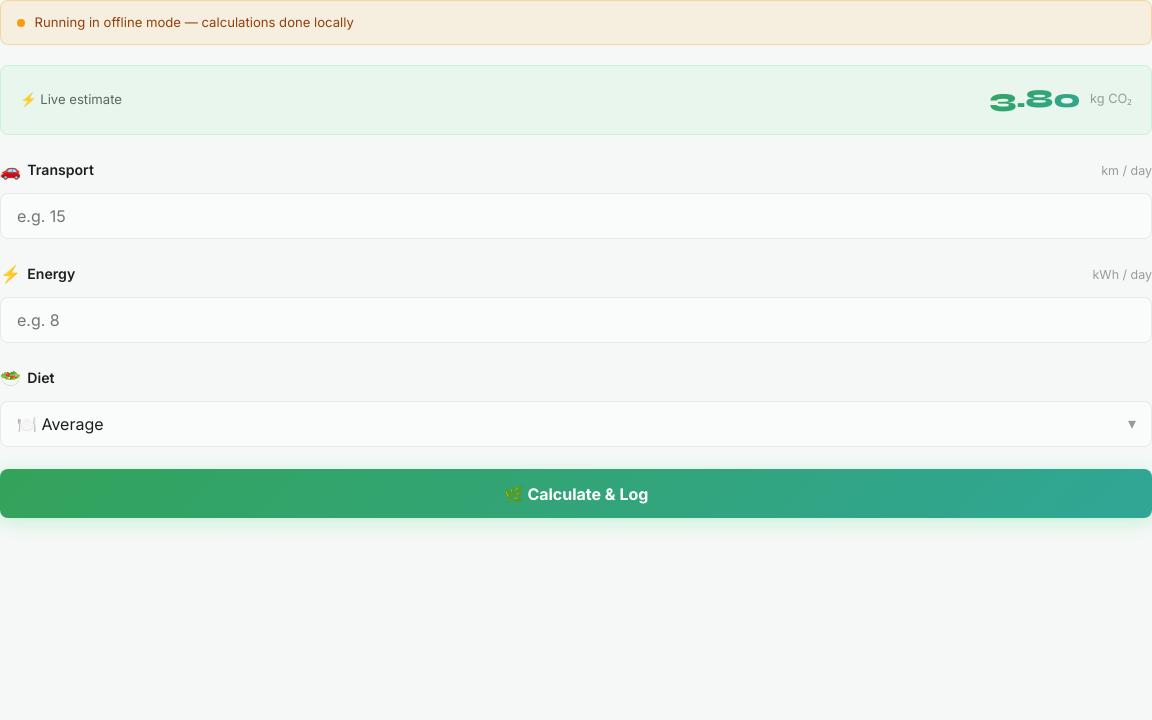
Scenario: FootprintForm › uses local fallback calculation when api is offline
Expected: the text "Running in offline mode — calculations done locally" is shown, [0,0,1151,45]
// Change to zero activity vegetarian (should get A or B grade)
Type "0" into the number field labelled "🚗 Transport km / day" at (576, 216), box [0,193,1151,239]
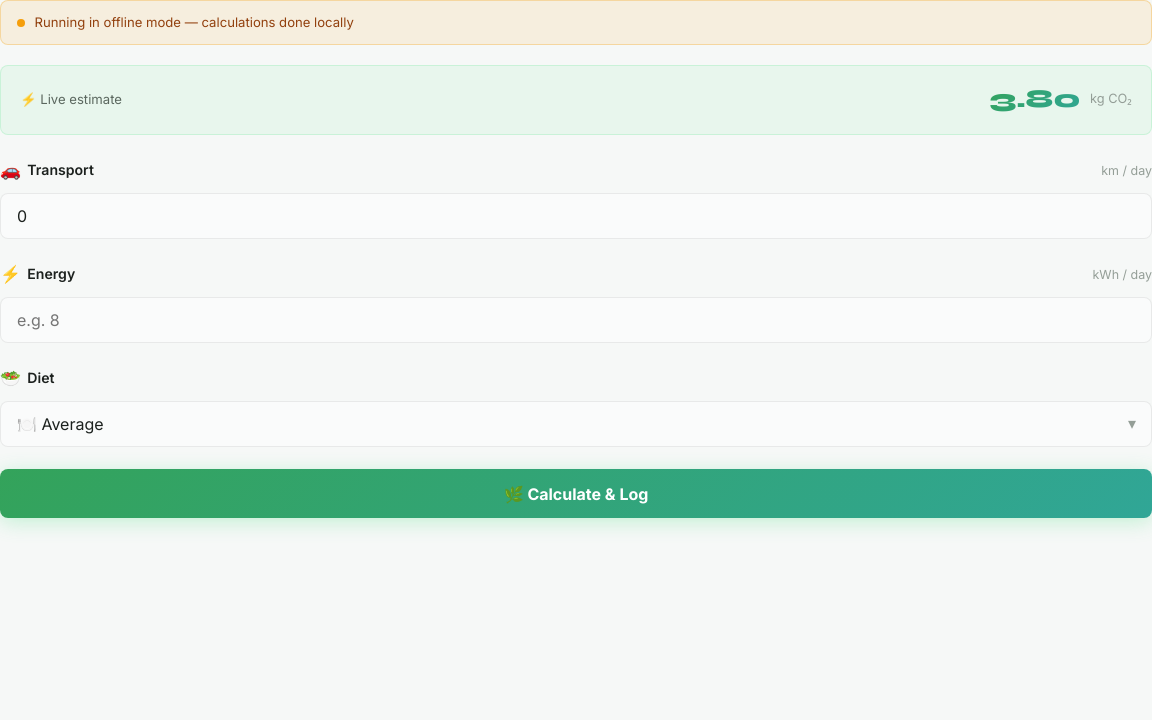
Type "0" into the number field labelled "⚡ Energy kWh / day" at (576, 320), box [0,297,1151,343]
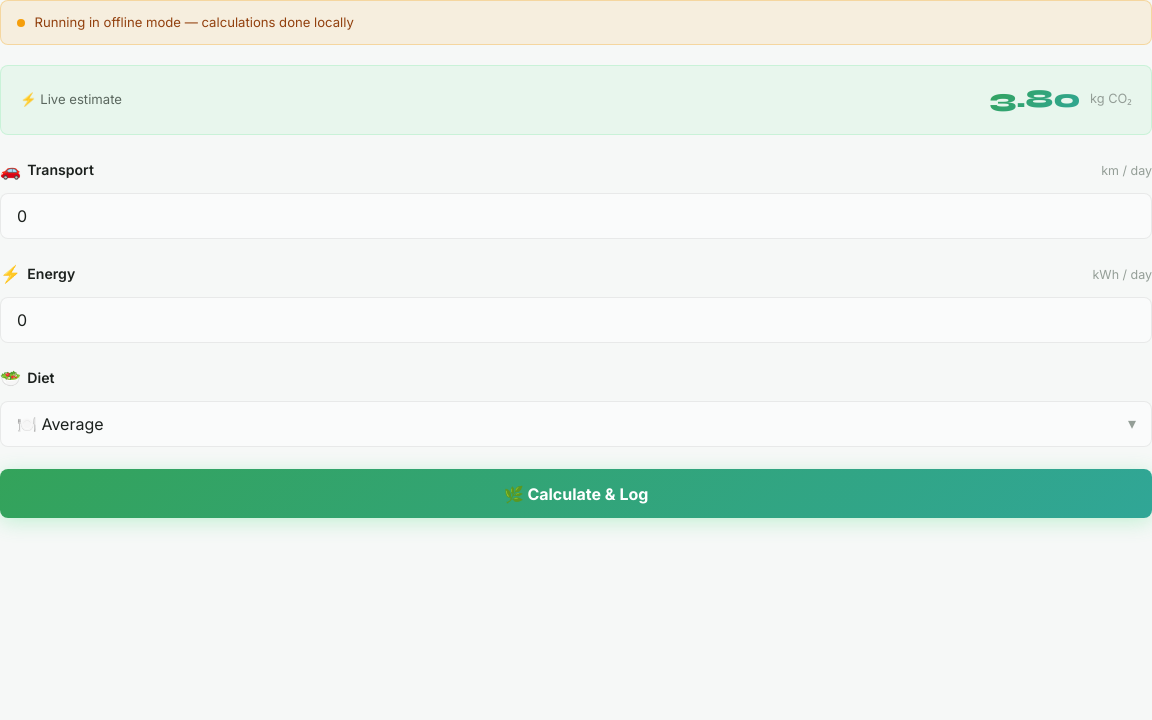
Select "🥦 Vegetarian" in the dropdown labelled "🥗 Diet" at (576, 424), box [0,401,1151,447]
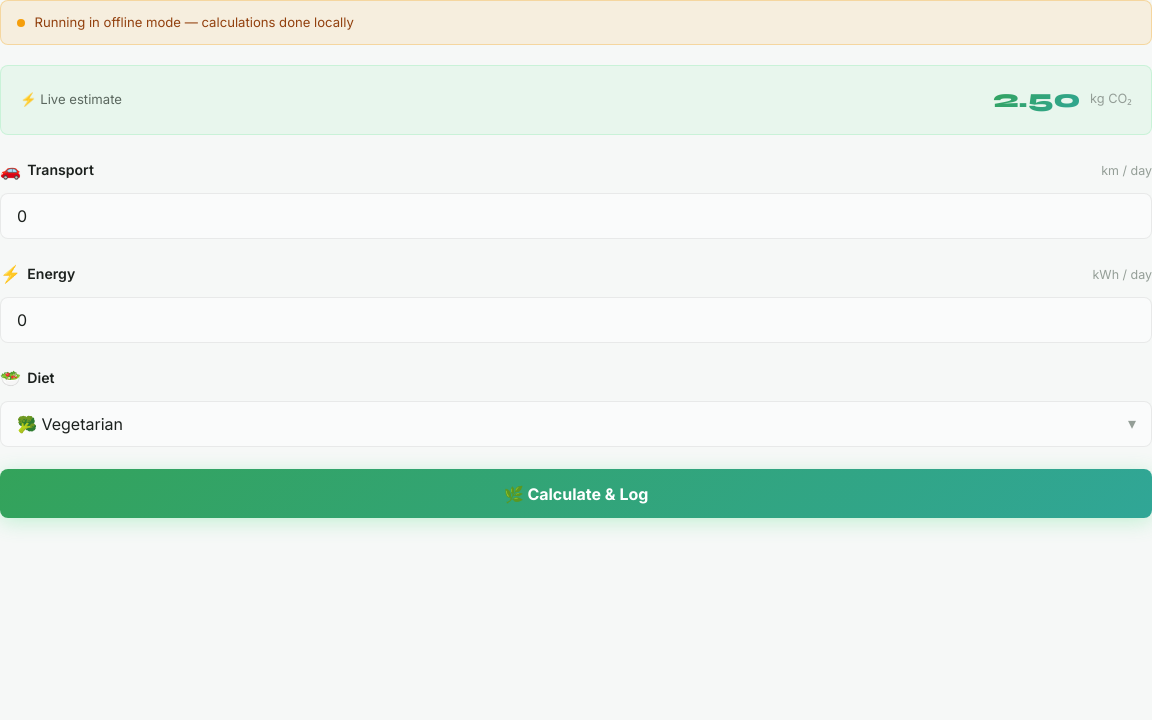
Click the button "🌿 Calculate & Log" at (576, 494), box [0,469,1151,518]
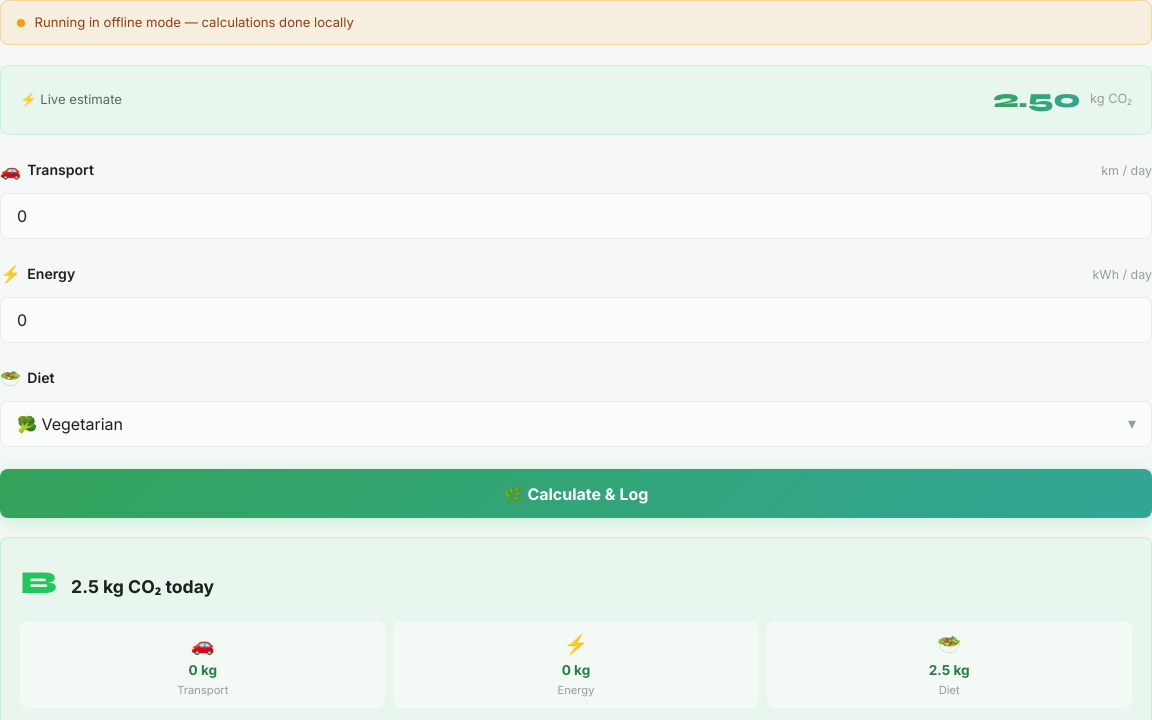
Expected: the text "2.5 kg CO₂ today" is shown, [71,573,214,602]
Expected: the text "B" is shown, [20,557,57,609]
